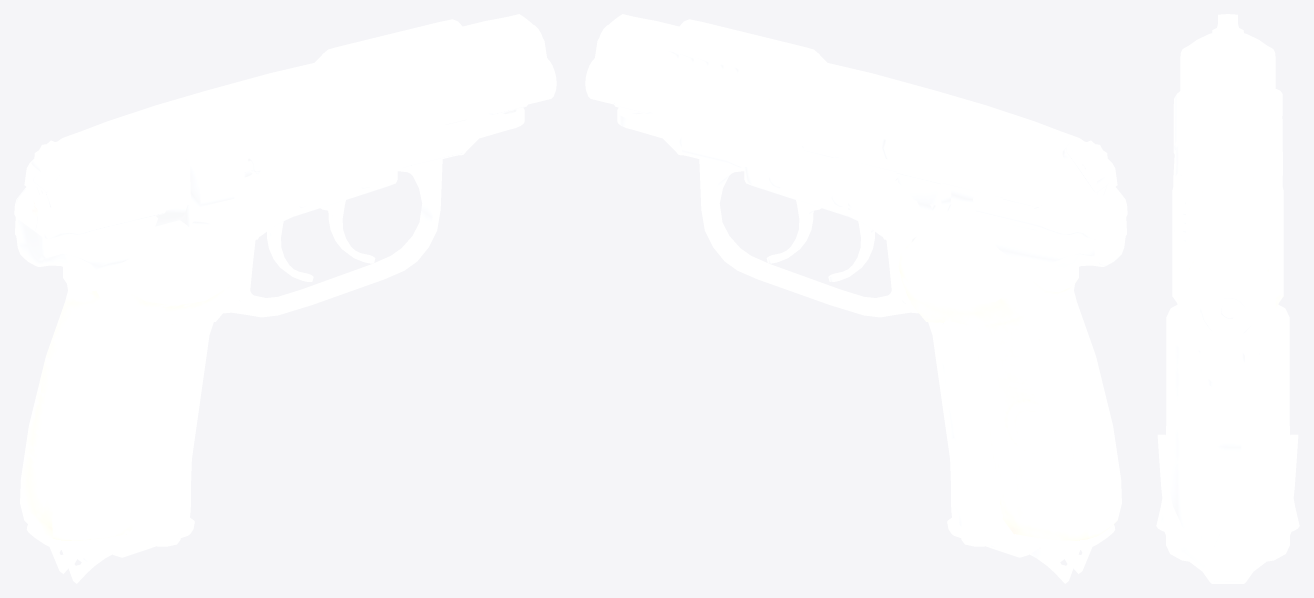
File: Mid_Nine.glb
3 views of the same model, side by side, from view 1: azimuth 30°, elevation 25°; view 2: azimuth 150°, elevation 25°; view 3: azimuth 270°, elevation 25° (orthographic). The views are drawn at different scales.
Visible parts, largest first — view 1: gun_gun_0; view 2: gun_gun_0; view 3: gun_gun_0.
Boxes of the visible parts, x1,y1,x2,y2 form: gun_gun_0: (14, 14, 556, 583); gun_gun_0: (585, 14, 1127, 583); gun_gun_0: (1156, 14, 1299, 583).
Bounding box in the file's own units: 0.3226 × 0.2688 × 0.0653.
Materials: 1 (1 with a texture image).
